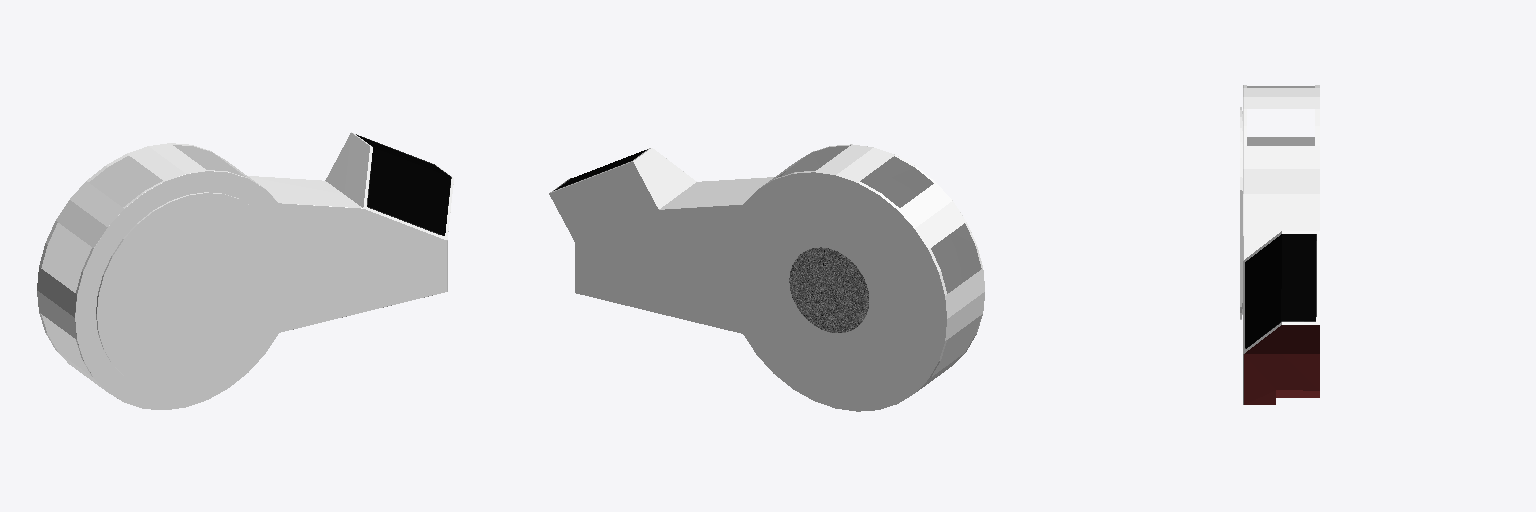
The picture shows the model from 3 angles: view 1: azimuth 30°, elevation 25°; view 2: azimuth 150°, elevation 25°; view 3: azimuth 270°, elevation 25°; orthographic projection.
Parts seen in each view (by area): view 1: Circle (1); view 2: Circle (1); view 3: Circle (1).
Boxes of the visible parts, box(x1,y1,x2,y2) form: Circle (1): box(37, 132, 453, 409); Circle (1): box(549, 144, 984, 411); Circle (1): box(1240, 85, 1319, 404).
Size of the model in its own units: 0.2149 by 0.1202 by 0.0373.
Materials: 6 (1 with a texture image).